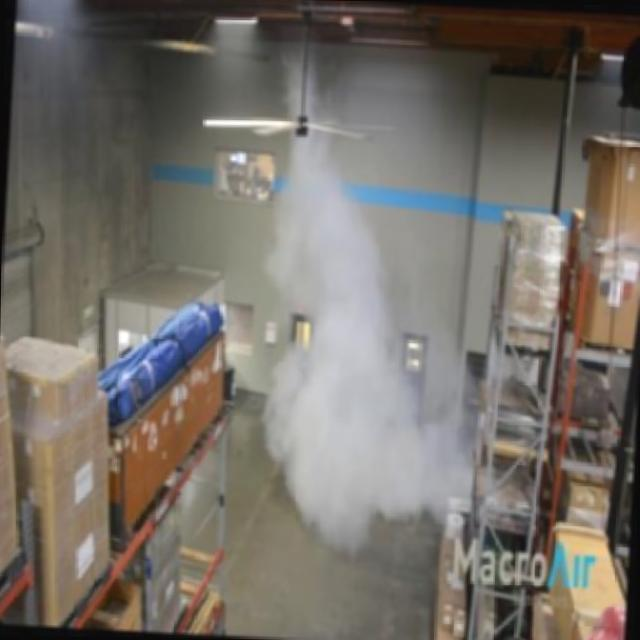smoke: (264, 133, 438, 548)
